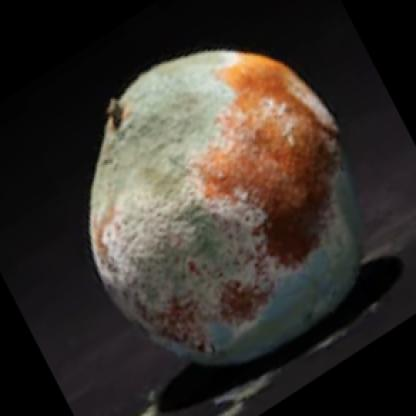rotten: (89, 48, 368, 361)
